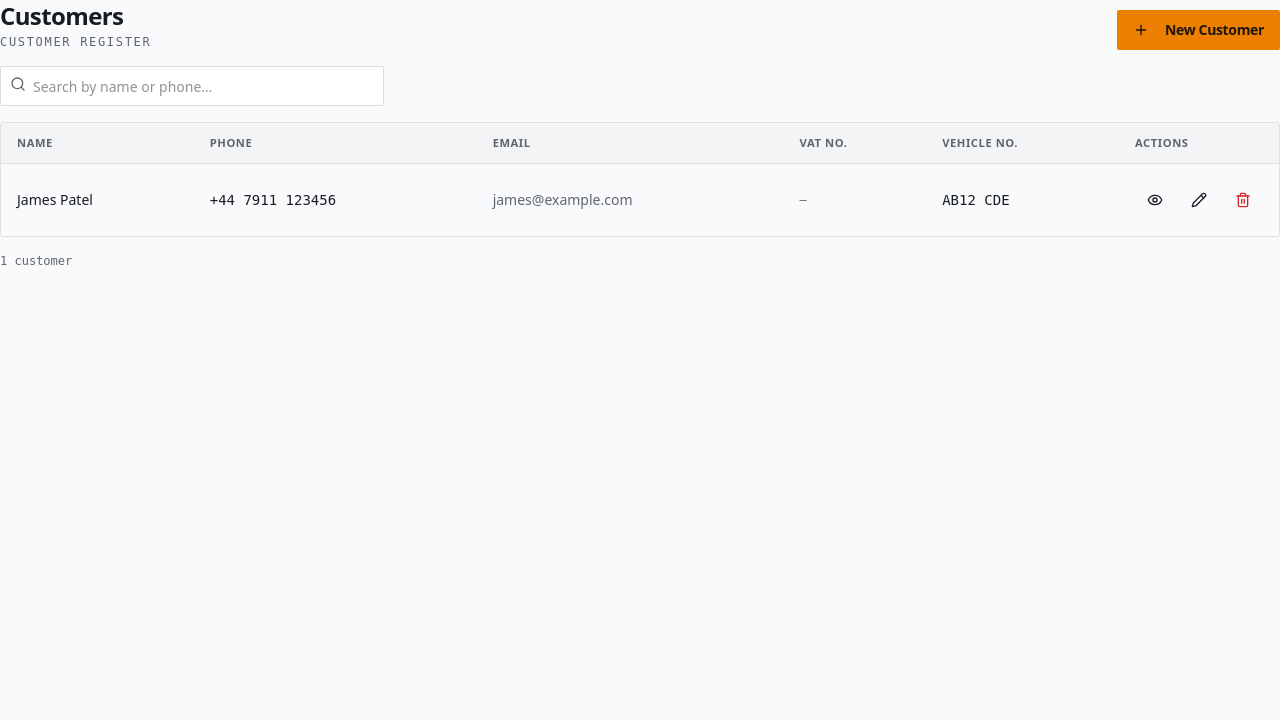
Test: CustomerListPage › shows validation error when name is empty on submit
Check: the text "James Patel" is shown, box [1, 163, 194, 236]
Click the button "New Customer". click: (1198, 30)
box: [1117, 10, 1279, 50]
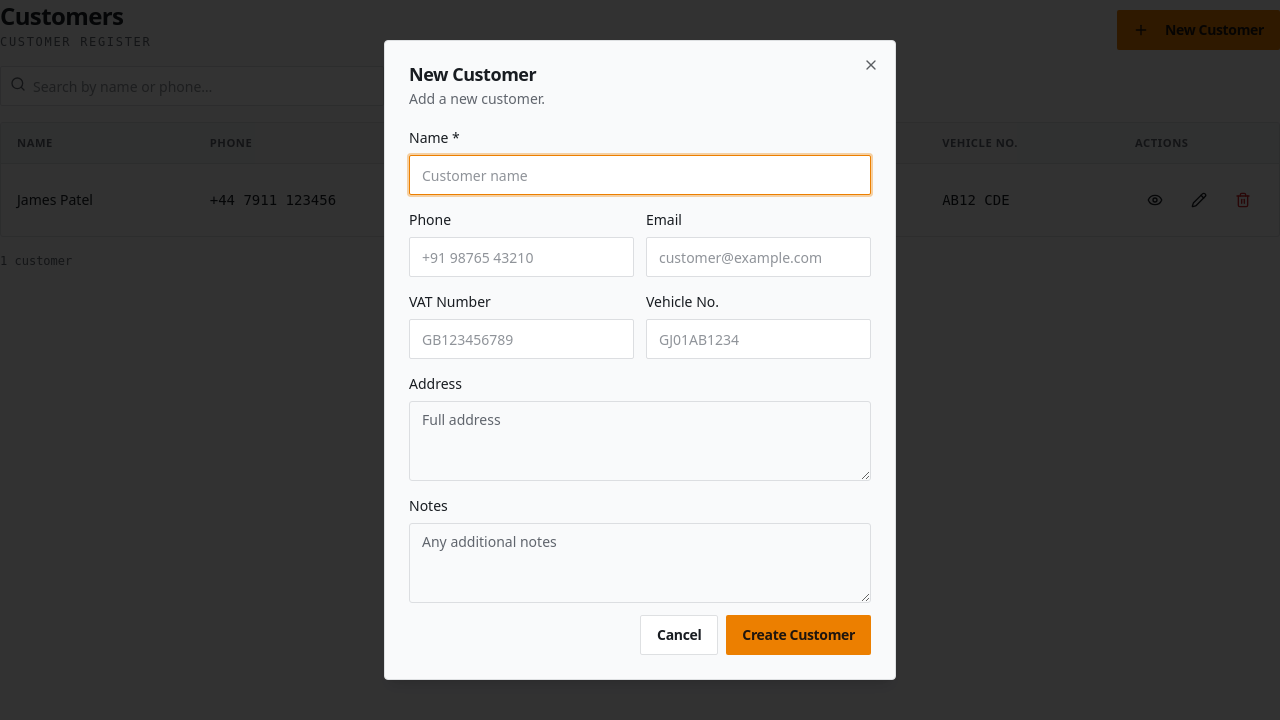
Check: the dialog is shown, box [384, 40, 896, 680]
Click the button "Create Customer". click: (799, 635)
box: [726, 615, 871, 655]
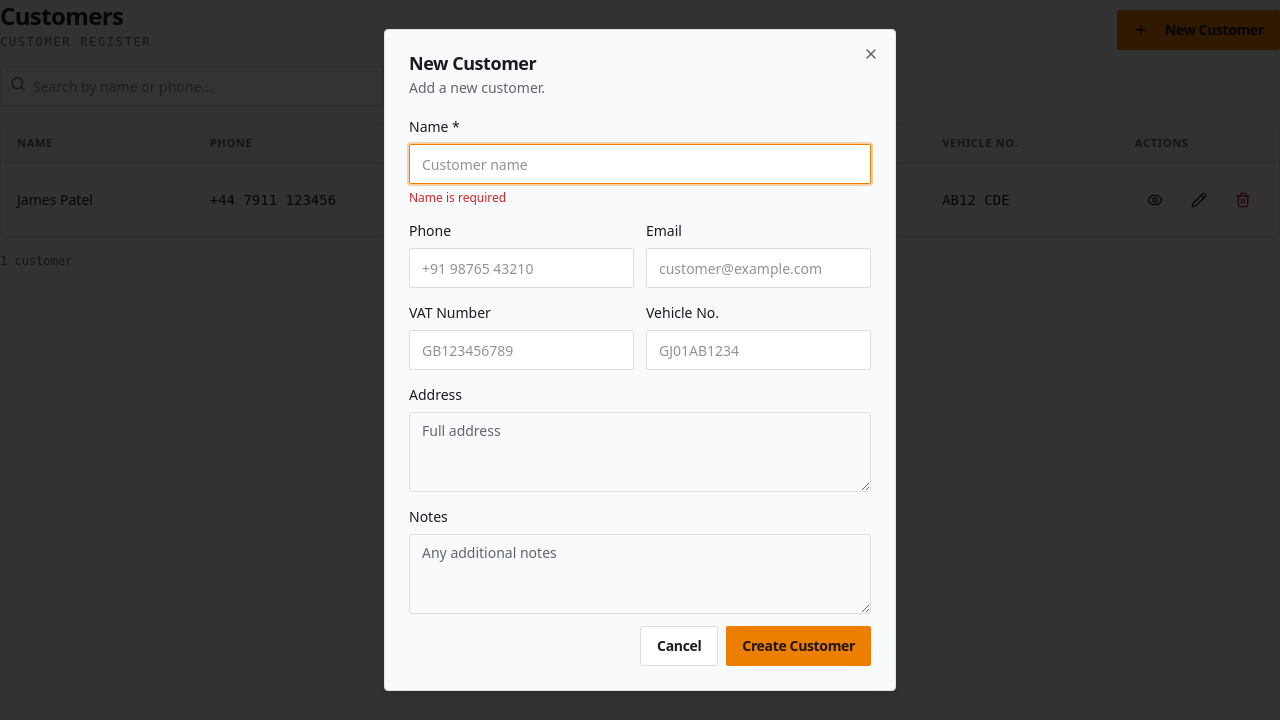
Check: the text "Name is required" is shown, box [409, 189, 506, 206]
